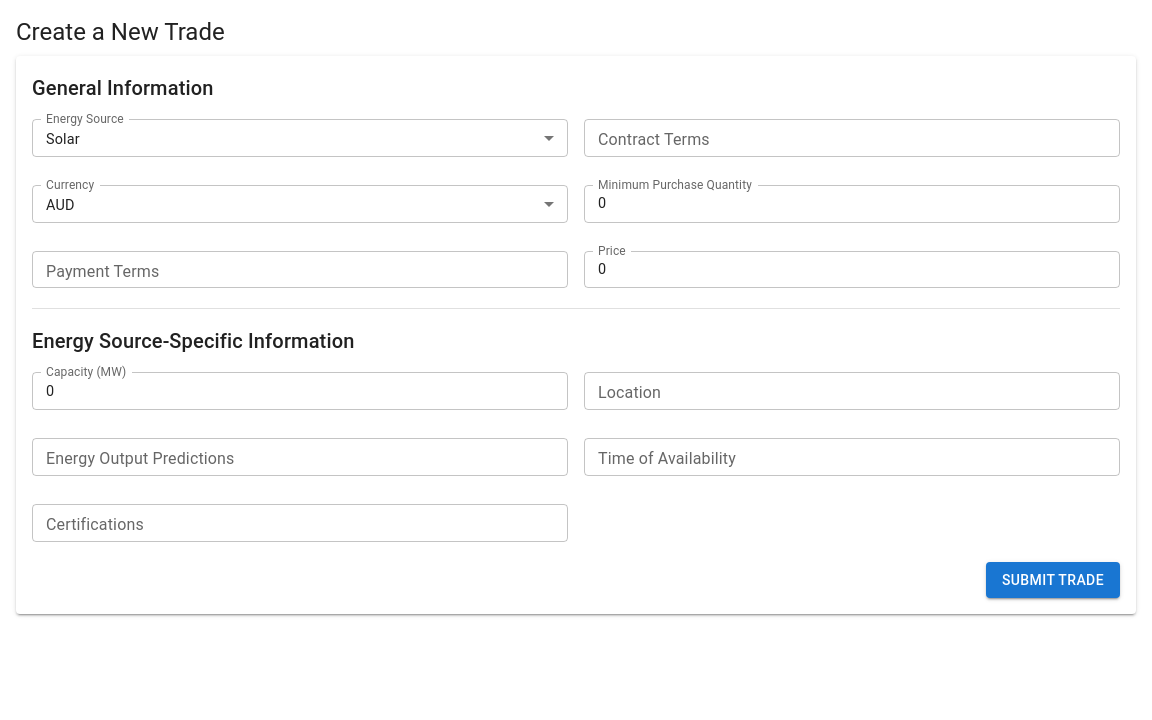
Test: TradeForm › opens the confirmation dialog when "Submit Trade" is clicked
Note: Find and click the "Submit Trade" button
Click the button "Submit Trade".
click(1053, 580)  # box left=986, top=562, right=1120, bottom=598
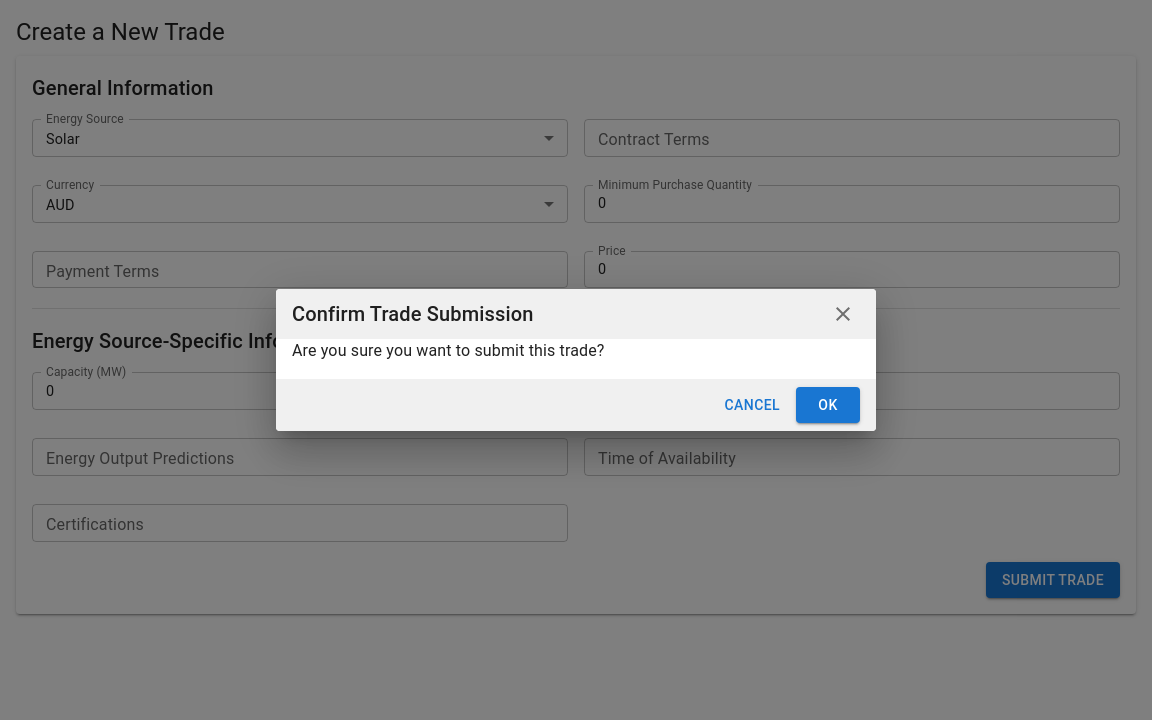
Check: the text "Are you sure you want to submit this trade?" is shown, box left=292, top=341, right=605, bottom=360
